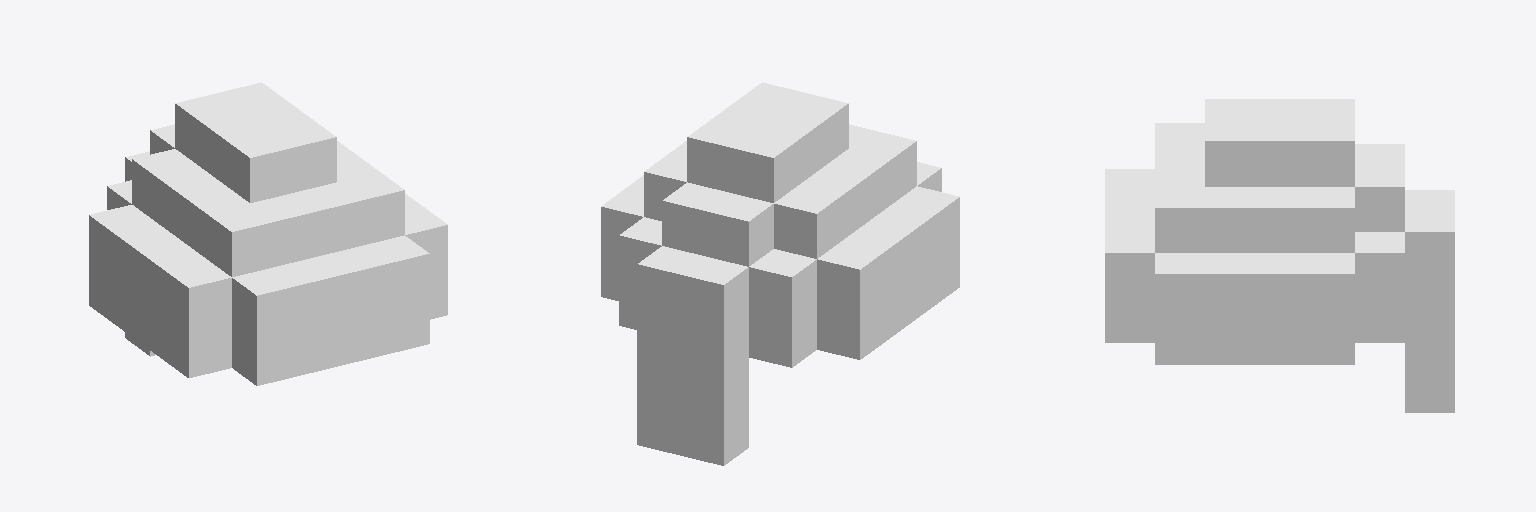
Rendered from char-220-helm_lgt_2d_ja_color.obj.
The picture shows the model from 3 angles: view 1: azimuth 30°, elevation 25°; view 2: azimuth 150°, elevation 25°; view 3: azimuth 270°, elevation 25°; orthographic projection.
Parts seen in each view (by area): view 1: helm_lgt_2d_ja_color; view 2: helm_lgt_2d_ja_color; view 3: helm_lgt_2d_ja_color.
Boxes of the visible parts, <box> form: helm_lgt_2d_ja_color: <box>89,82,447,385</box>; helm_lgt_2d_ja_color: <box>601,82,959,465</box>; helm_lgt_2d_ja_color: <box>1105,99,1454,412</box>.
Size of the model in its own units: 0.6 by 0.6 by 0.7.